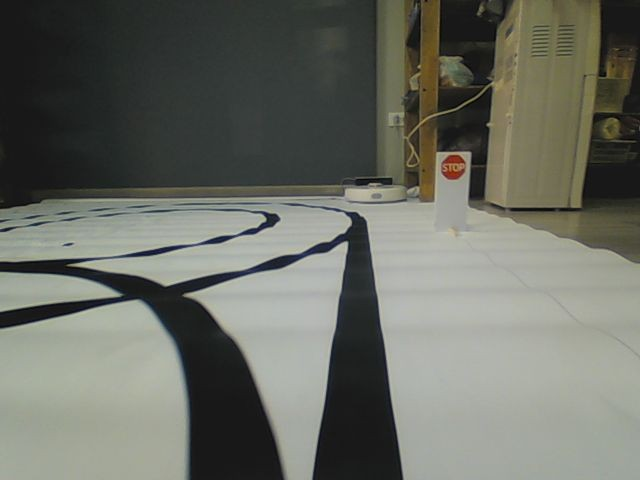Stop: (440, 154, 467, 180)
